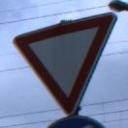preferencia: (11, 12, 117, 118)
